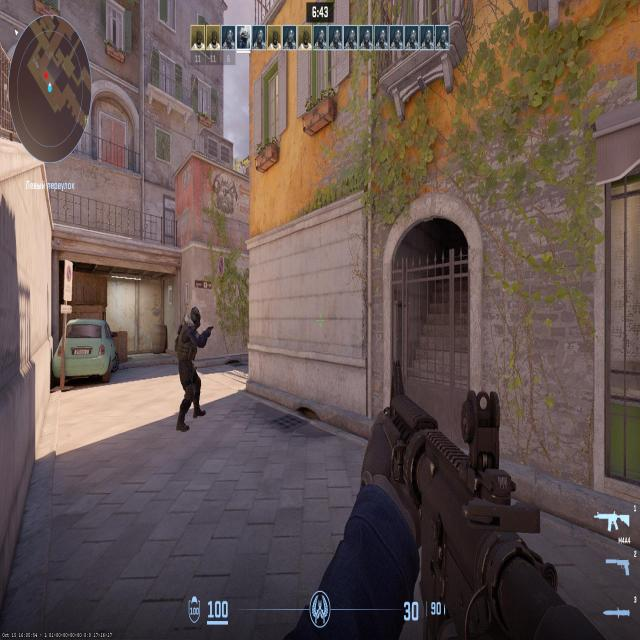CT: (181, 308, 202, 406)
CT_heat: (192, 306, 198, 328)
